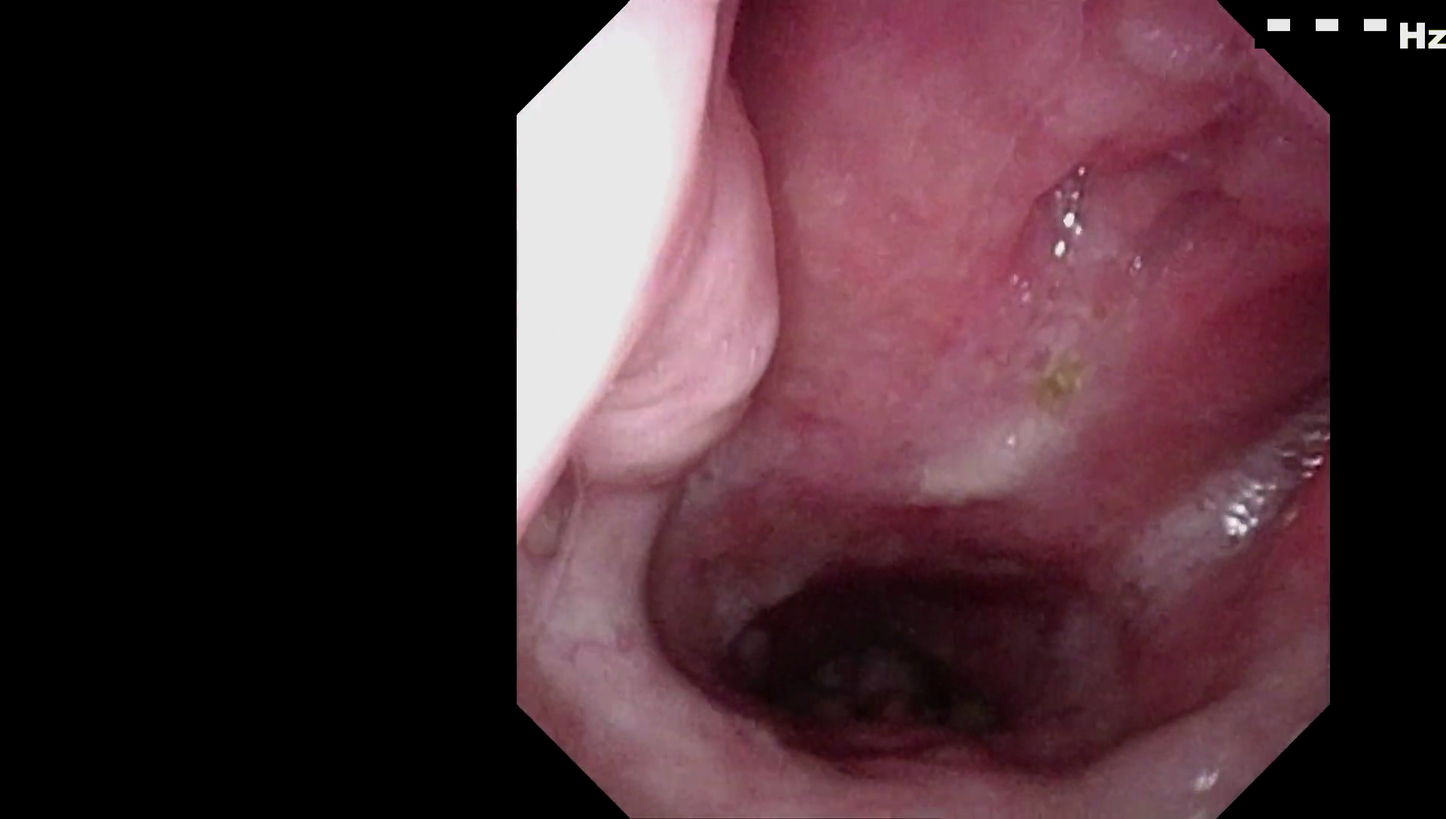close_wall: (527, 107, 733, 596)
next: (706, 522, 1019, 747)
